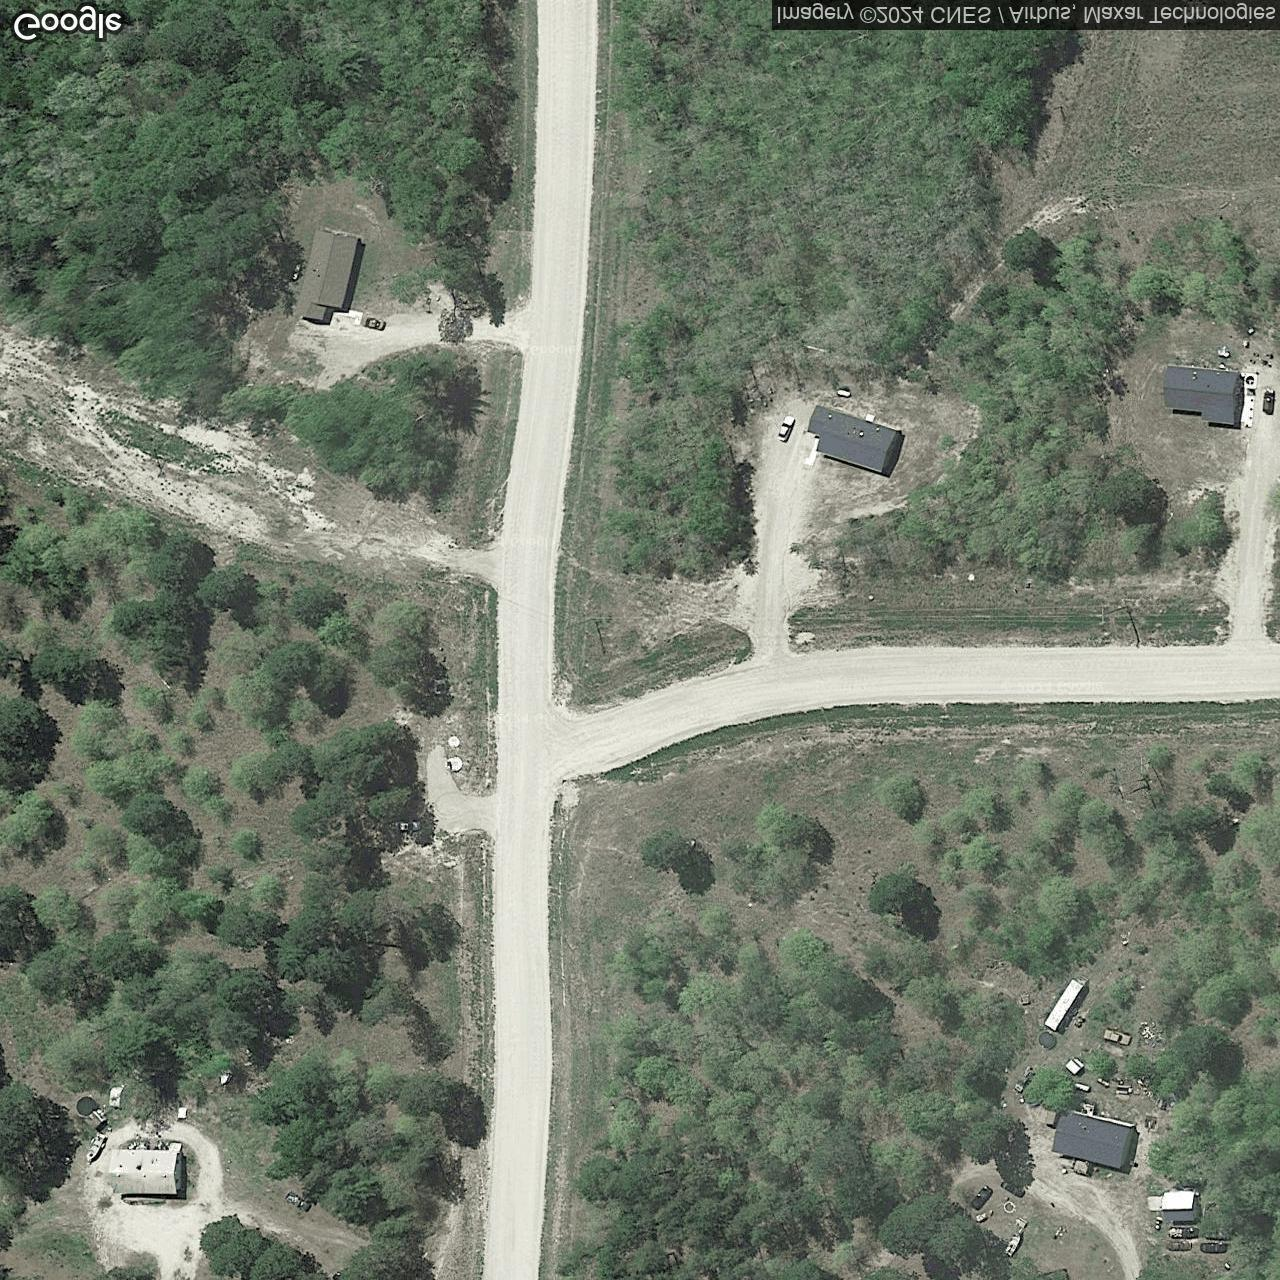Garage: (1160, 1190, 1194, 1221)
House: (806, 404, 901, 474), (294, 229, 360, 321), (1050, 1107, 1135, 1171), (1163, 365, 1240, 425), (108, 1143, 183, 1194)
Propane: (291, 261, 302, 284), (1073, 1082, 1092, 1095), (836, 387, 852, 400)
Trailer: (1042, 978, 1085, 1033)
